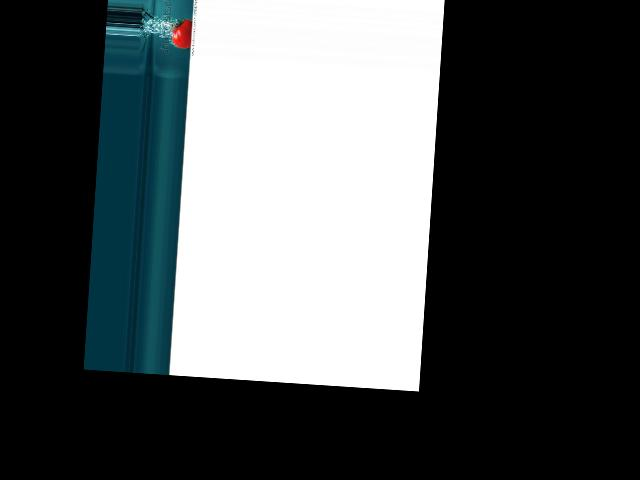tomato: (171, 17, 192, 48)
